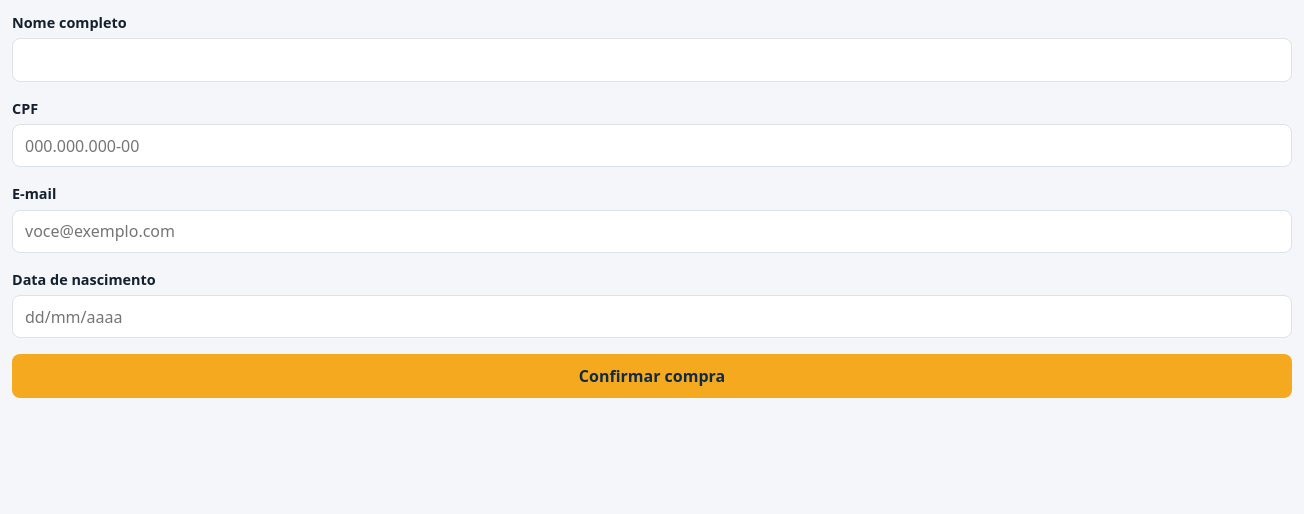
PassengerForm › shows errors and does not submit when empty
Click the button "Confirmar compra".
click(652, 376)  # box [12,354,1292,398]
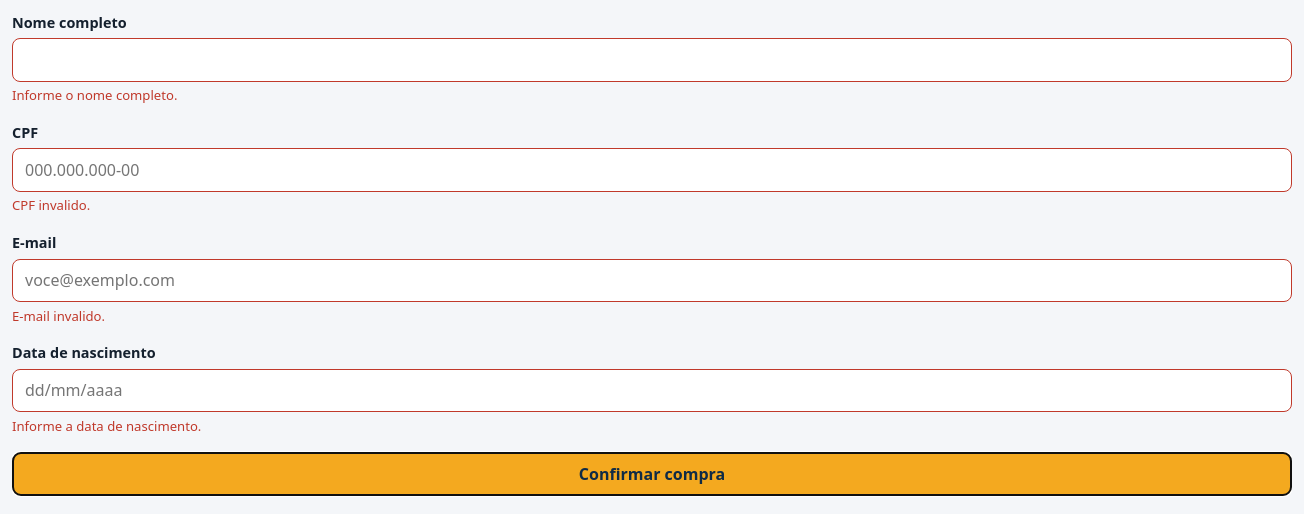
expect the text "CPF invalido." is shown: met, box [12,196,90,214]
expect the text "E-mail invalido." is shown: met, box [12,306,105,324]
expect the text "Informe o nome completo." is shown: met, box [12,86,177,104]
